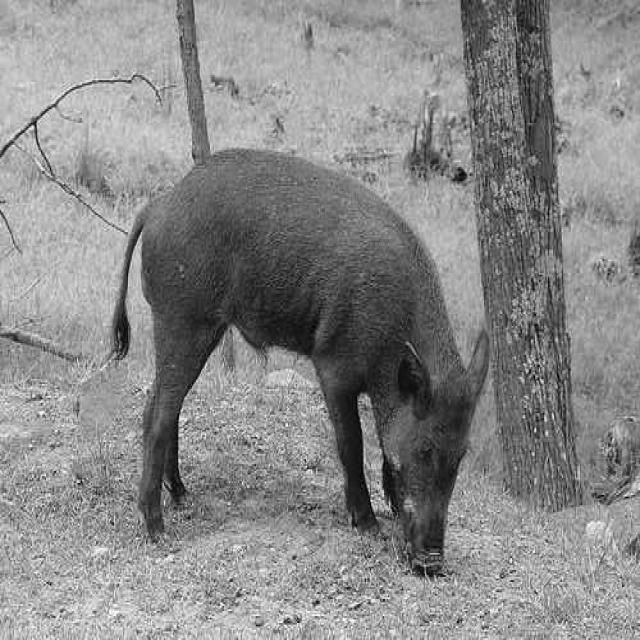boar: (111, 148, 486, 568)
